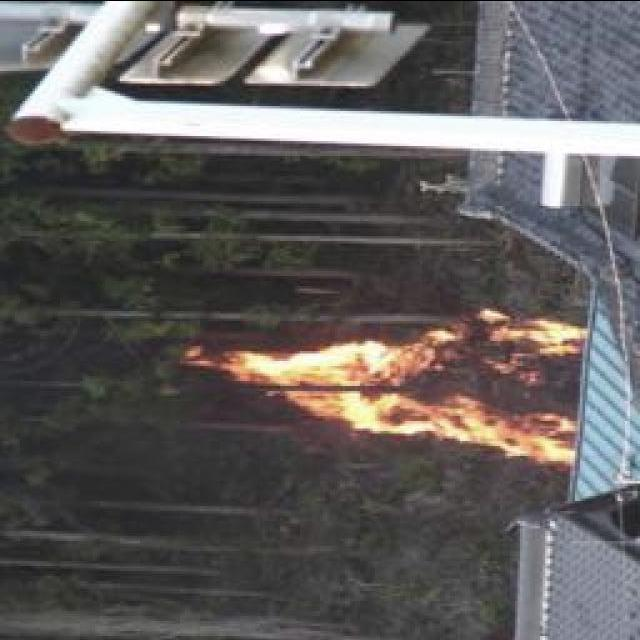Fire: (207, 311, 584, 470)
